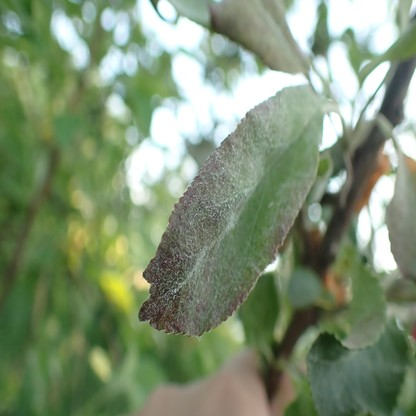powder: (137, 83, 324, 338)
rust: (325, 270, 350, 306)
